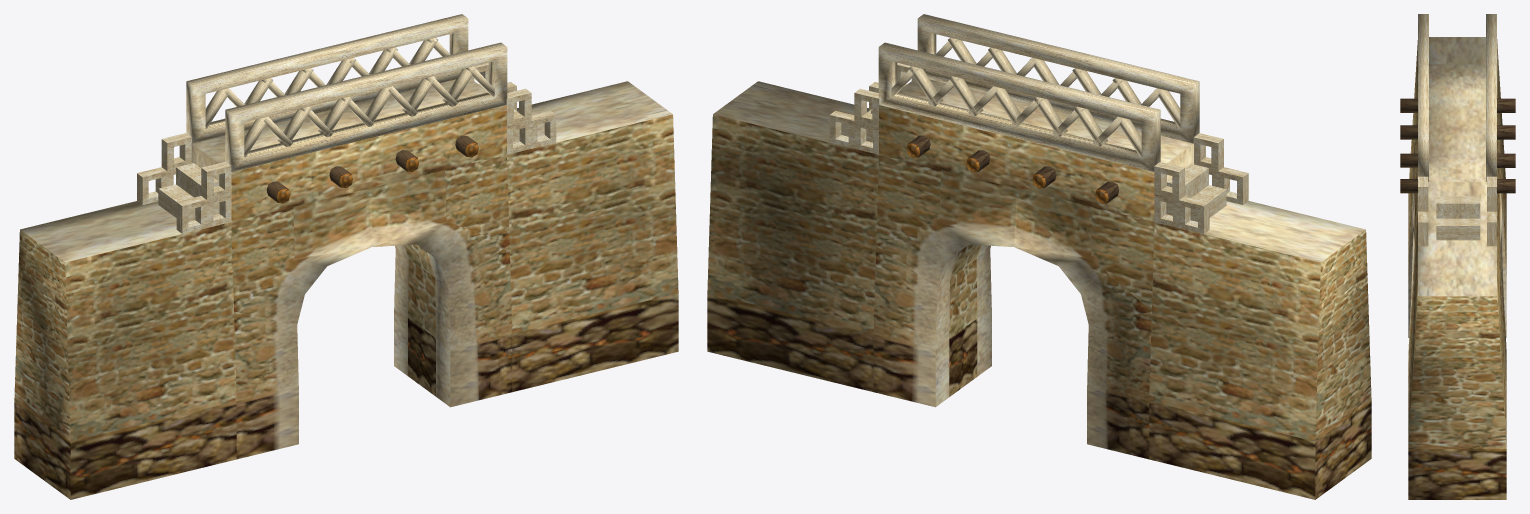
The model's file is wall_gate.dae.
The picture shows the model from 3 angles, left to right: view 1: azimuth 30°, elevation 25°; view 2: azimuth 150°, elevation 25°; view 3: azimuth 270°, elevation 25°; orthographic projection. The views are drawn at different scales.
Visible parts, largest first — view 1: wall_gate; view 2: wall_gate; view 3: wall_gate.
Part boxes in pixels (x1,y1,x2,y2): wall_gate: (14, 14, 678, 499); wall_gate: (707, 14, 1371, 499); wall_gate: (1400, 14, 1515, 499).
Bounding box in the file's own units: 34.75 × 6.53 × 18.63.
